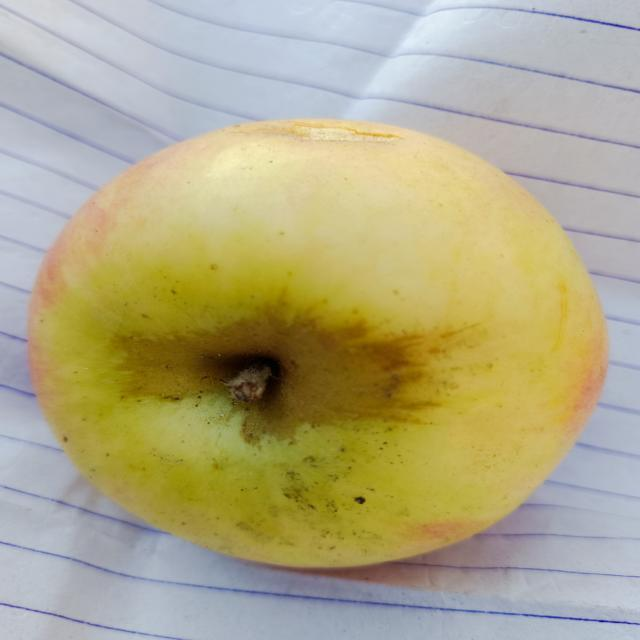Rotten: (53, 116, 605, 586)
